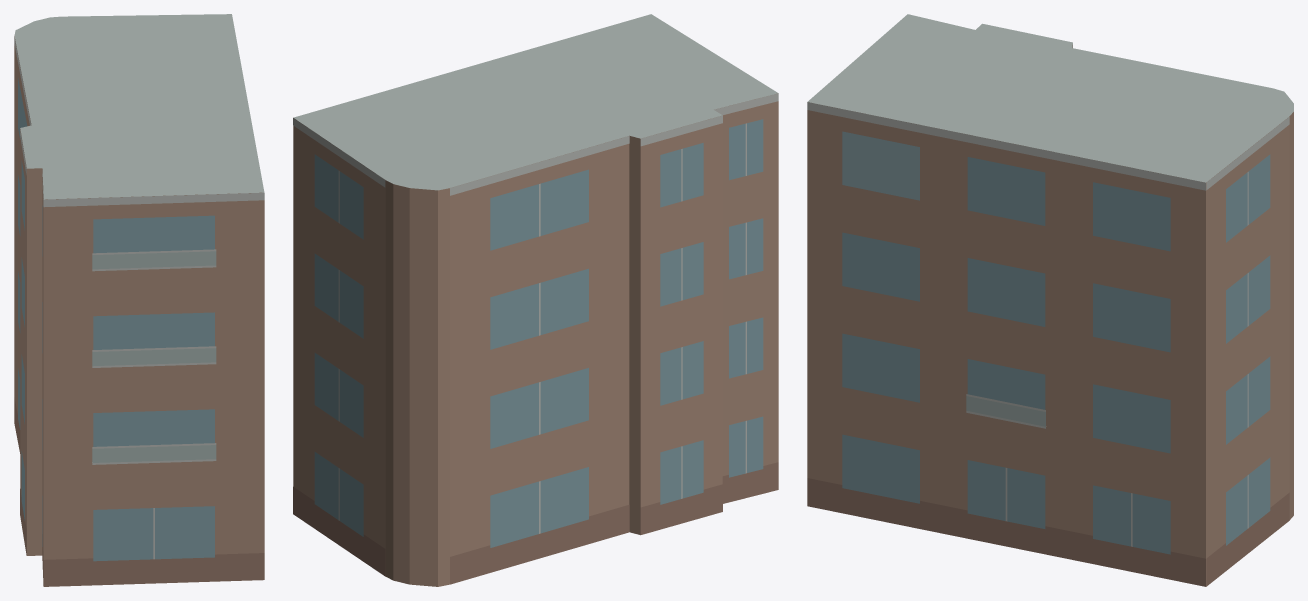
Rendered from survey-upis-32727119.glb.
3 renders of one model, left to right at view 1: azimuth 30°, elevation 25°; view 2: azimuth 150°, elevation 25°; view 3: azimuth 270°, elevation 25°, orthographic. The views are drawn at different scales.
Visible parts, largest first — view 1: survey-upis-32727119.tmp; view 2: survey-upis-32727119.tmp; view 3: survey-upis-32727119.tmp.
Boxes of the visible parts, x1,y1,x2,y2 form: survey-upis-32727119.tmp: (14, 14, 264, 586); survey-upis-32727119.tmp: (293, 14, 778, 586); survey-upis-32727119.tmp: (807, 14, 1293, 586).
Bounding box in the file's own units: 11.02 × 12.3 × 13.43.
